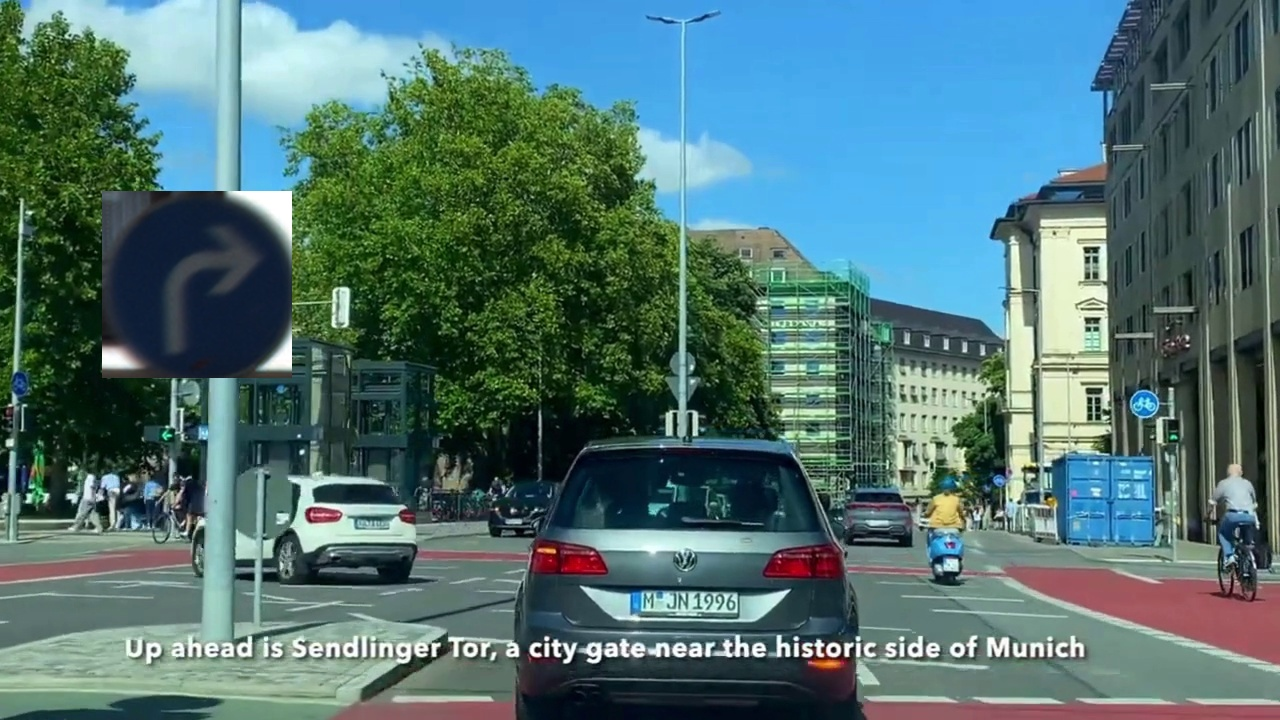Turn right: (102, 191, 292, 378)
